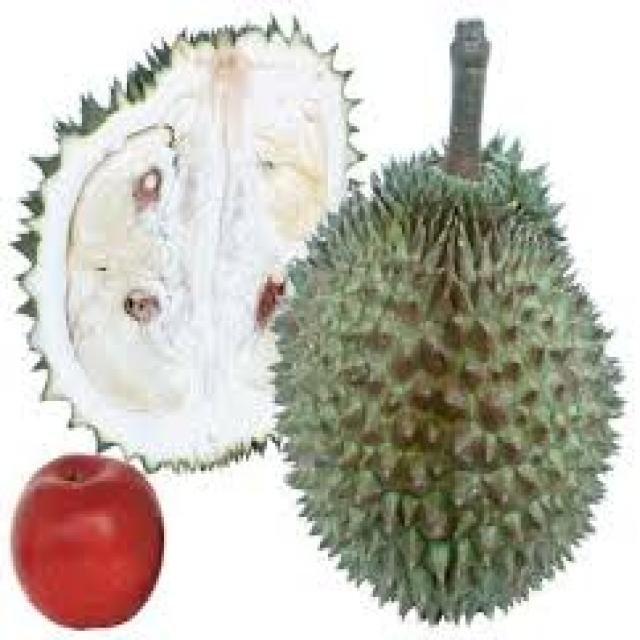organic waste: (267, 16, 624, 618), (3, 9, 365, 471), (8, 452, 161, 625)
